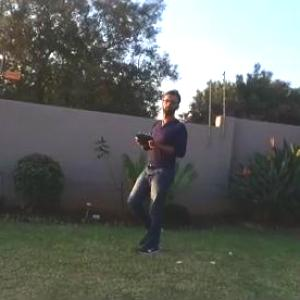follow: (124, 86, 193, 261)
